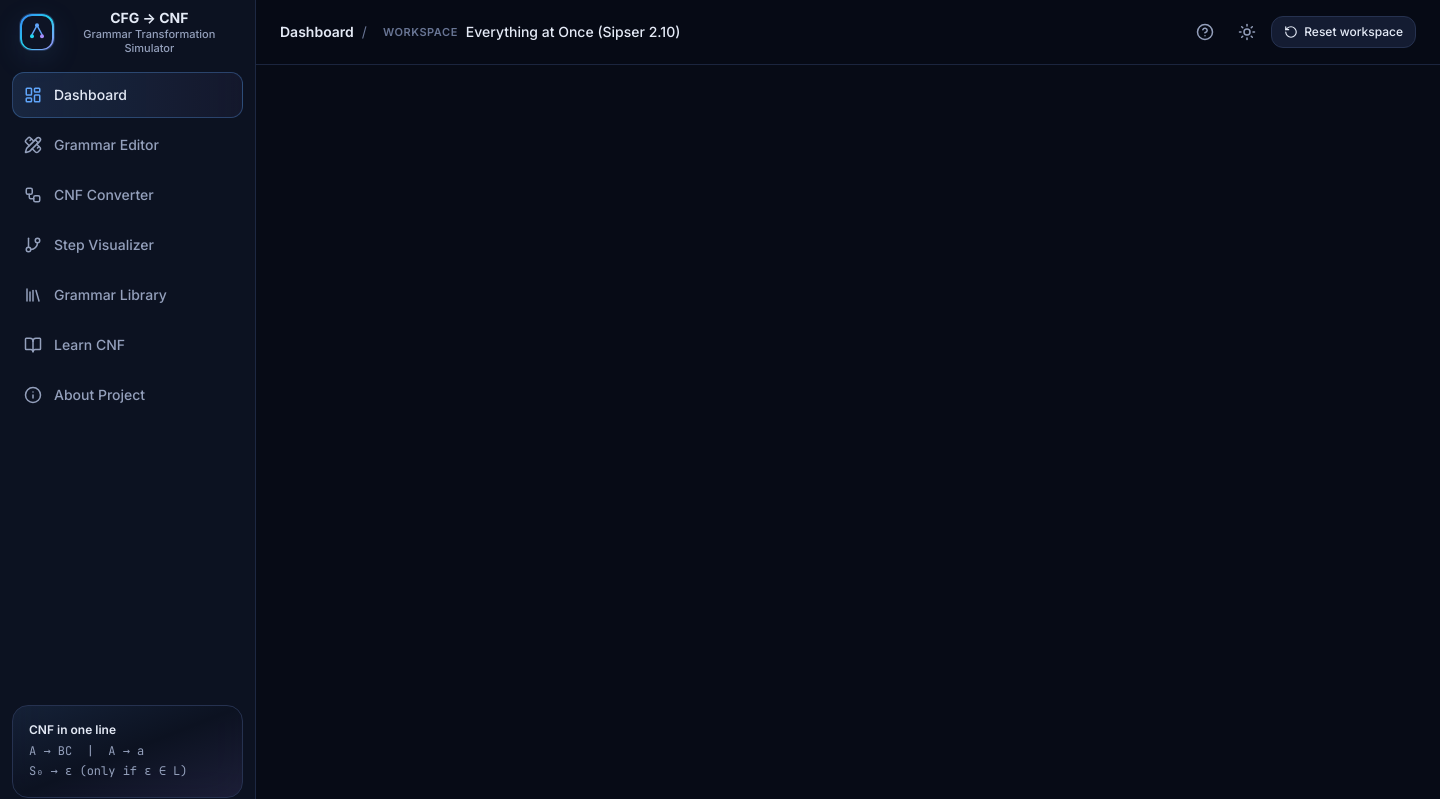
Test: application shell › renders the dashboard and every navigation page
Click the button "Grammar Editor": (128, 145) x1=12 y1=122 x2=243 y2=168
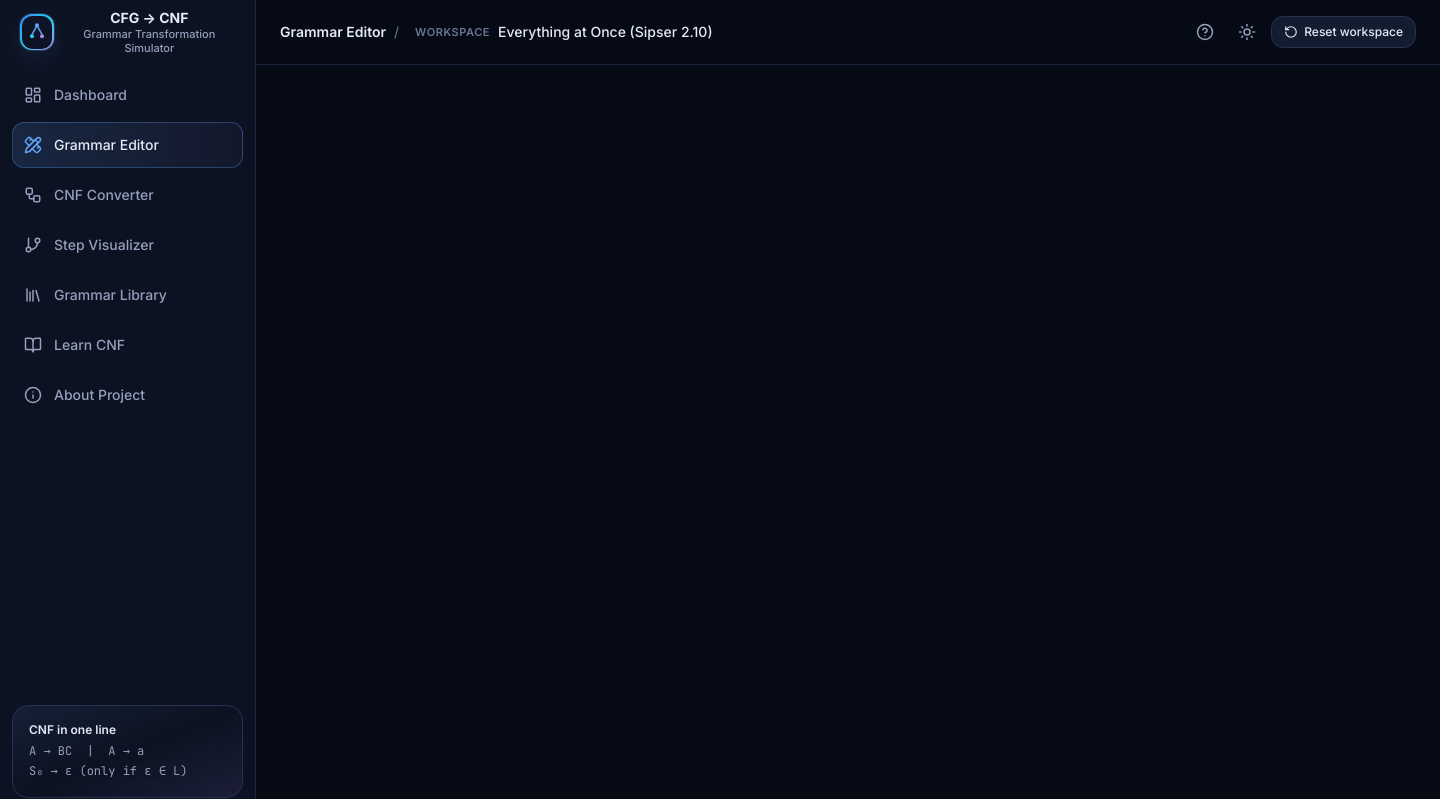
Click the button "CNF Converter": (128, 195) x1=12 y1=172 x2=243 y2=218
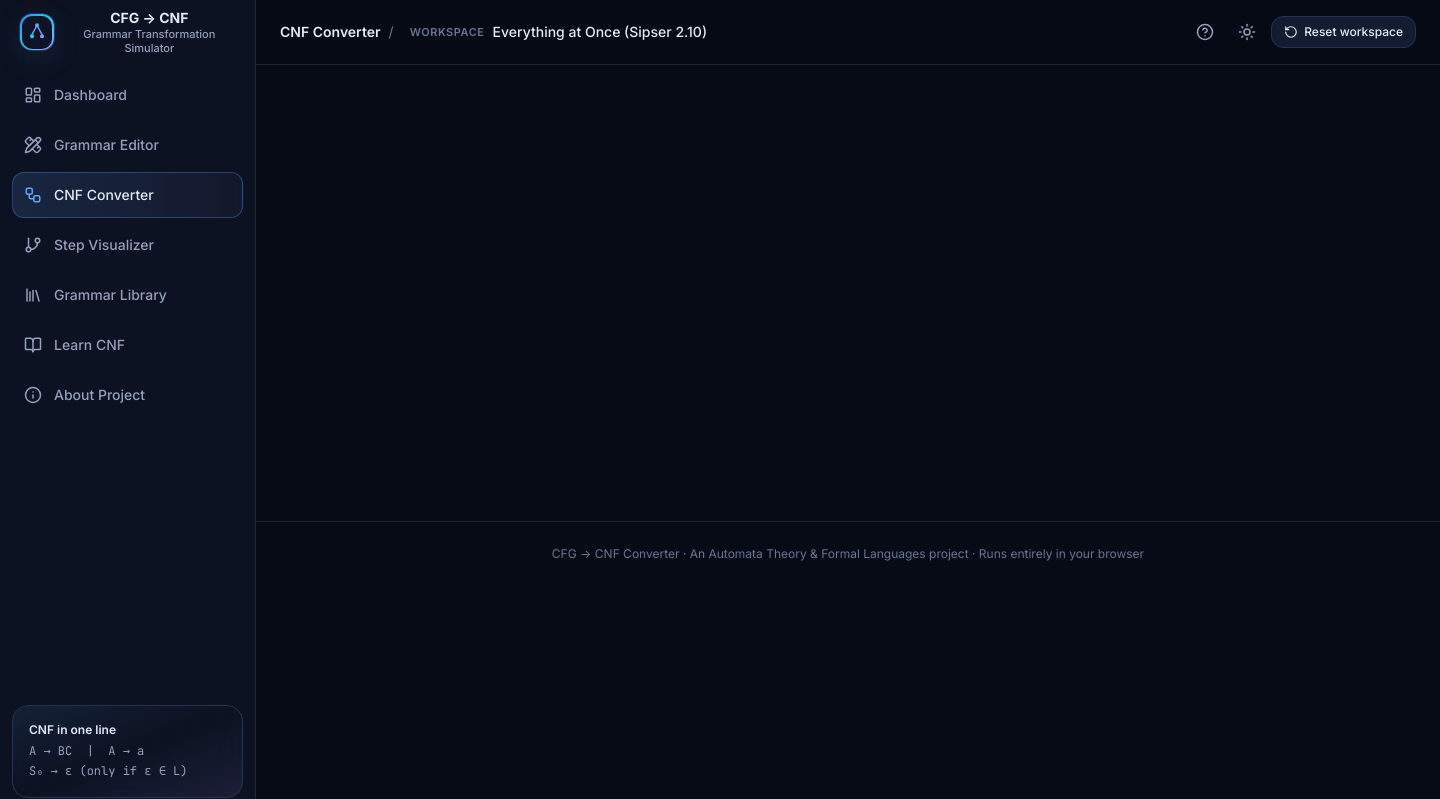
Click the button "Step Visualizer": (128, 245) x1=12 y1=222 x2=243 y2=268
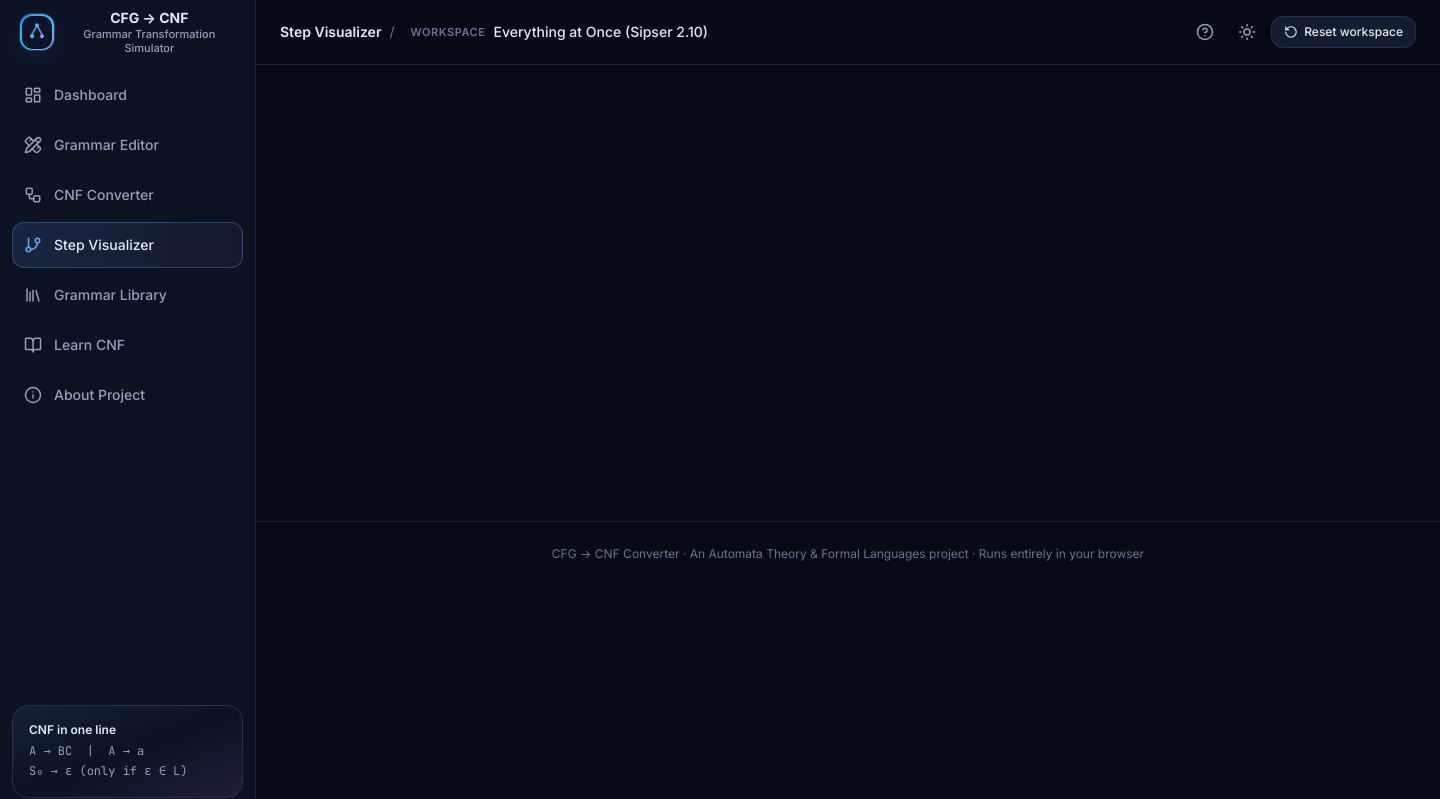
Click the button "Grammar Library": (128, 295) x1=12 y1=272 x2=243 y2=318
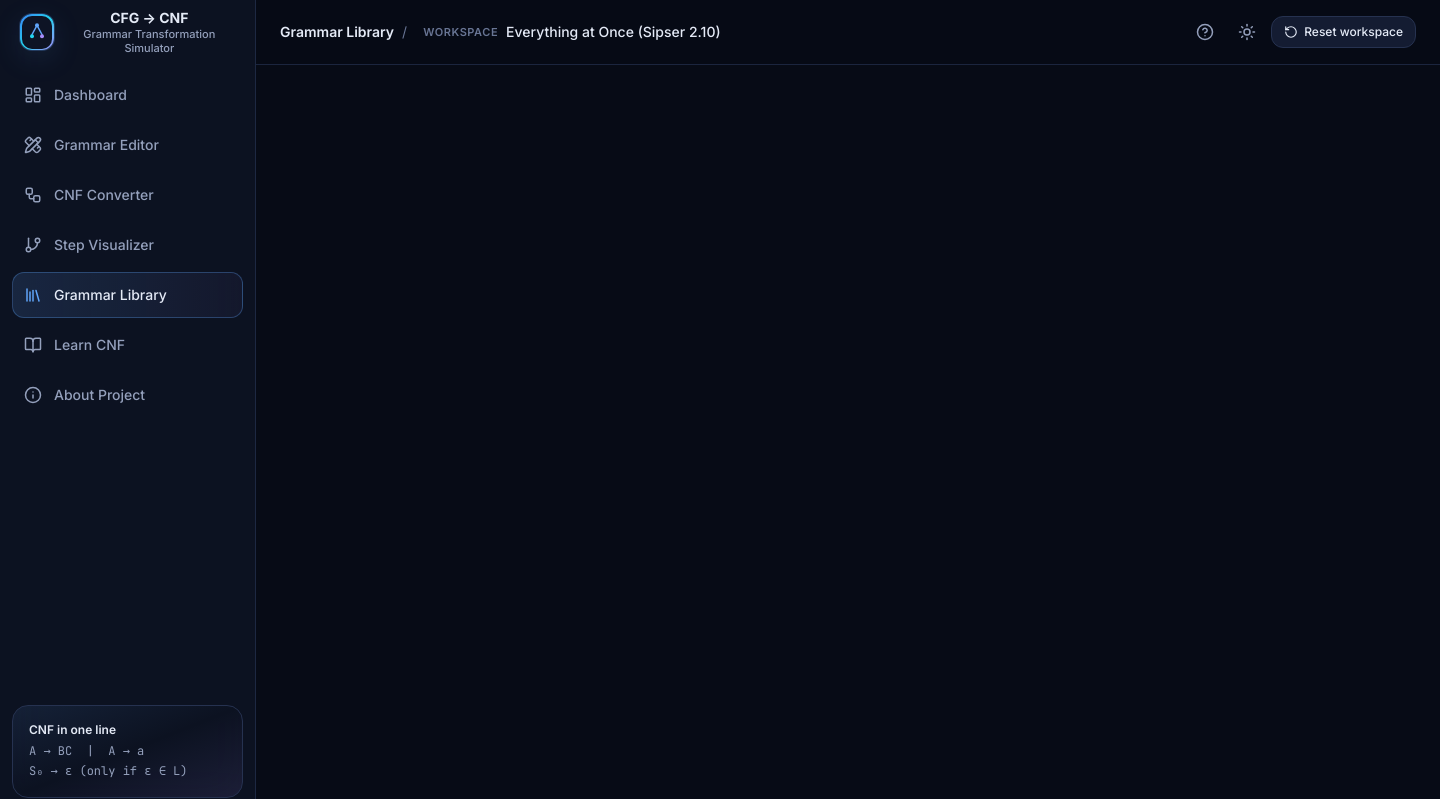
Click the button "Learn CNF": (128, 345) x1=12 y1=322 x2=243 y2=368
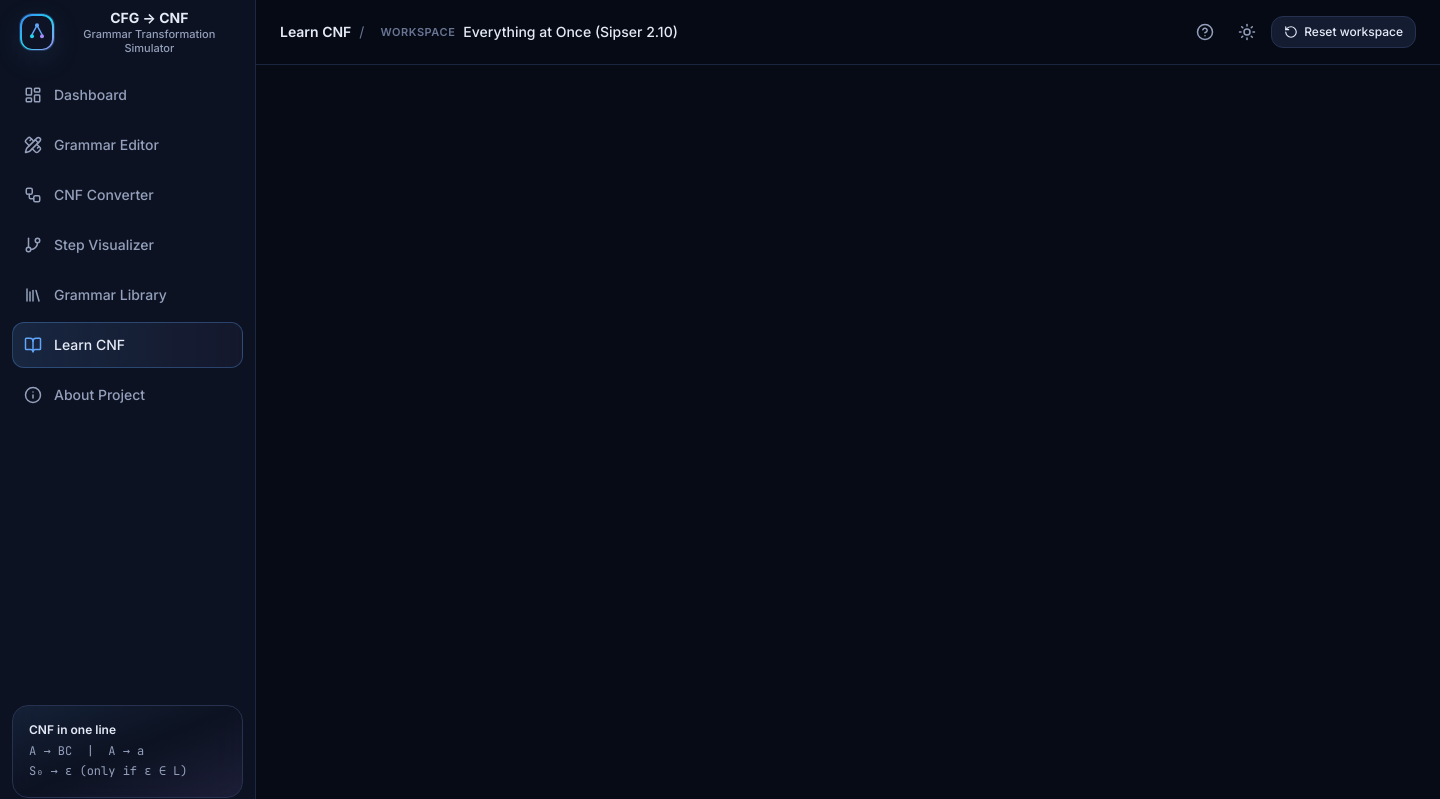
Click the button "About Project": (128, 395) x1=12 y1=372 x2=243 y2=418
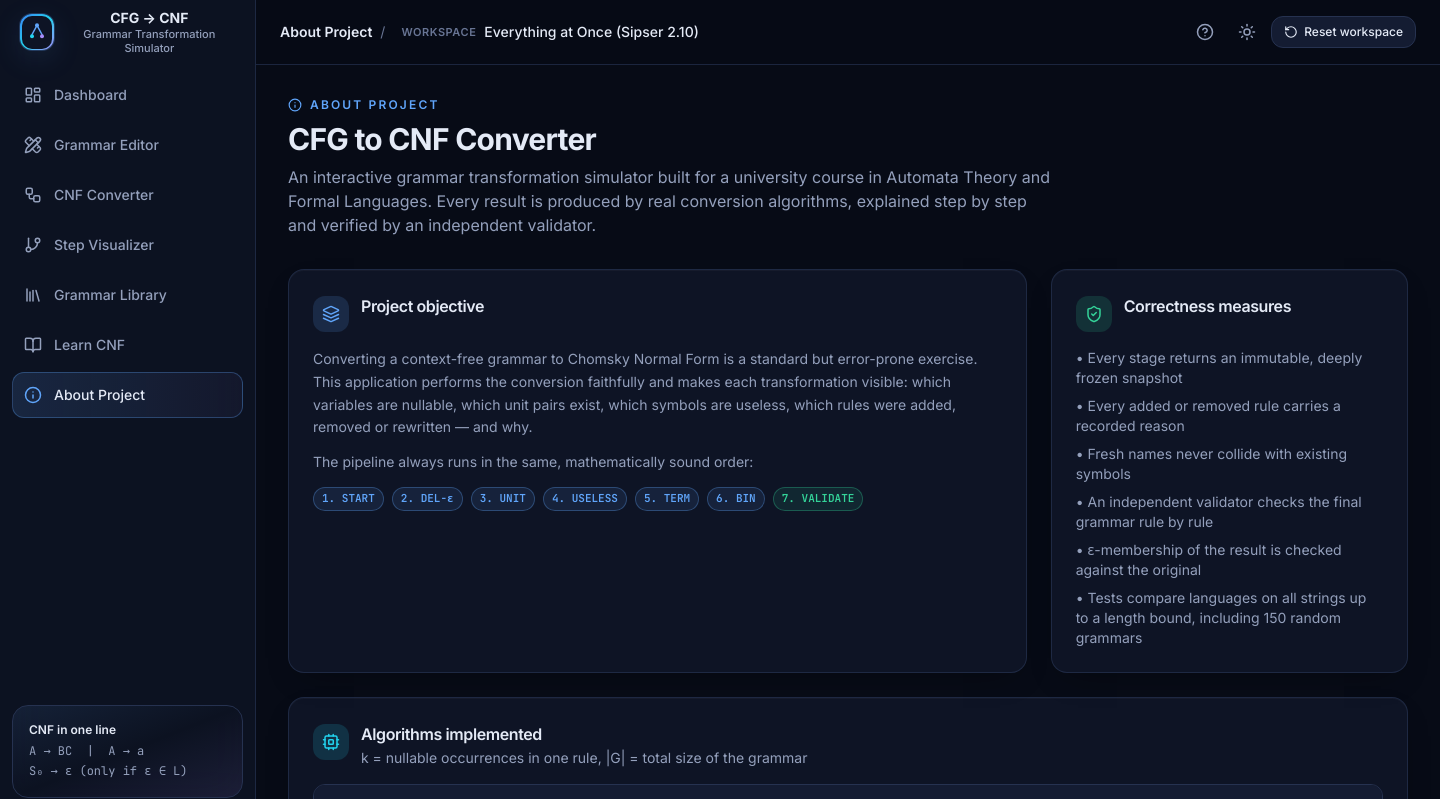
Now the heading "CFG to CNF Converter" is shown, box x1=288 y1=121 x2=596 y2=157
